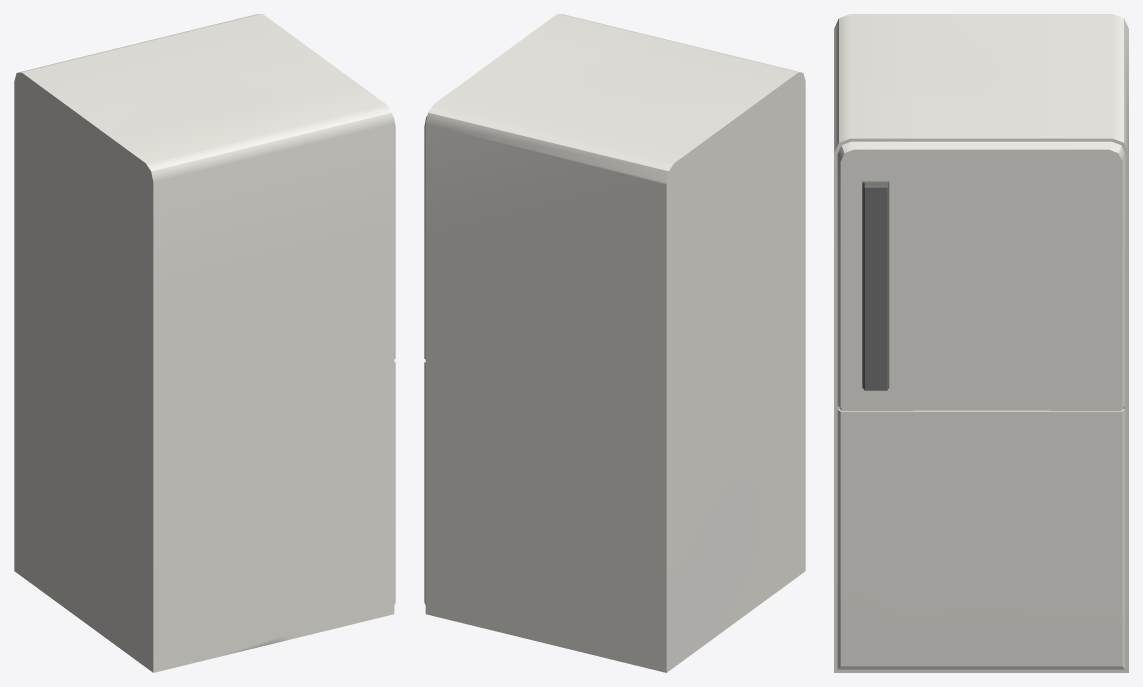
Rendered from frigo_text (1).fbx.
3 views of the same model, side by side, from view 1: azimuth 30°, elevation 25°; view 2: azimuth 150°, elevation 25°; view 3: azimuth 270°, elevation 25° (orthographic). The views are drawn at different scales.
Visible parts, largest first — view 1: frigo; view 2: frigo; view 3: frigo.
Boxes of the visible parts, x1,y1,x2,y2 form: frigo: [14, 14, 395, 672]; frigo: [424, 14, 805, 672]; frigo: [834, 14, 1128, 672].
Size of the model in its own units: 105 by 200 by 100.
Materials: 1 (1 with a texture image).
